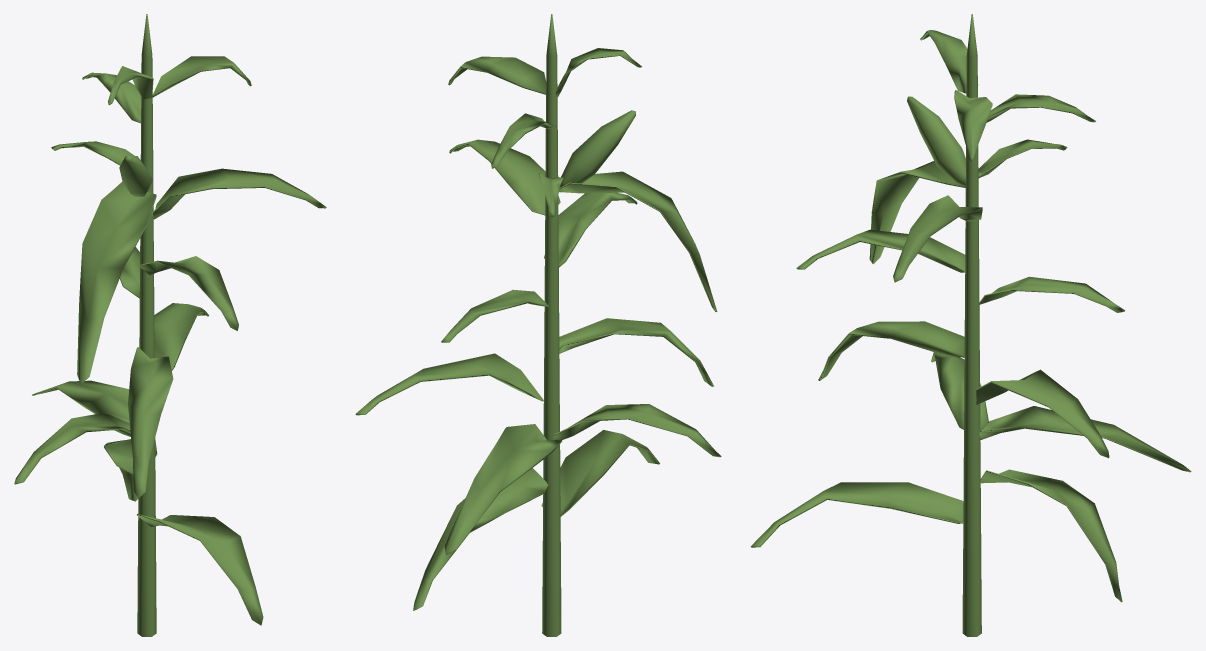
The model's file is Maizal_low.fbx.
3 renders of one model, left to right at view 1: azimuth 30°, elevation 25°; view 2: azimuth 150°, elevation 25°; view 3: azimuth 270°, elevation 25°, orthographic.
Visible parts, largest first — view 1: maizal1LOW; view 2: maizal1LOW; view 3: maizal1LOW.
Boxes of the visible parts, box(x1,y1,x2,y2) form: maizal1LOW: box(14, 14, 326, 636); maizal1LOW: box(355, 14, 721, 636); maizal1LOW: box(750, 14, 1191, 636).
Bounding box in the file's own units: 123 × 249 × 161.
